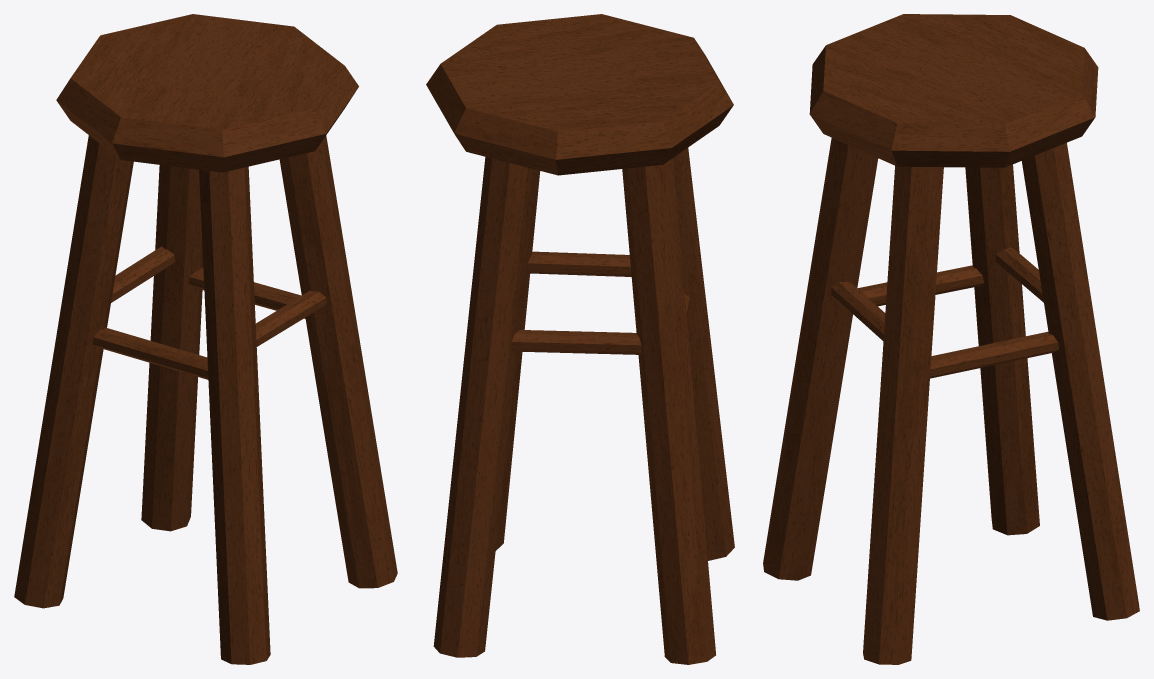
Rendered from Chair .fbx.
3 renders of one model, left to right at view 1: azimuth 30°, elevation 25°; view 2: azimuth 150°, elevation 25°; view 3: azimuth 270°, elevation 25°, orthographic. The views are drawn at different scales.
Visible parts, largest first — view 1: Cylinder.005; view 2: Cylinder.005; view 3: Cylinder.005.
Boxes of the visible parts, x1,y1,x2,y2 form: Cylinder.005: [14, 14, 397, 664]; Cylinder.005: [426, 14, 734, 664]; Cylinder.005: [763, 14, 1139, 664].
Bounding box in the file's own units: 293 × 463 × 302.
Materials: 1 (1 with a texture image).
